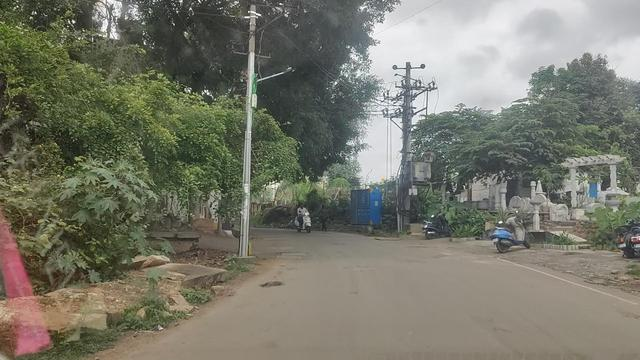RoadDamages: (259, 274, 288, 295), (274, 245, 311, 261)
